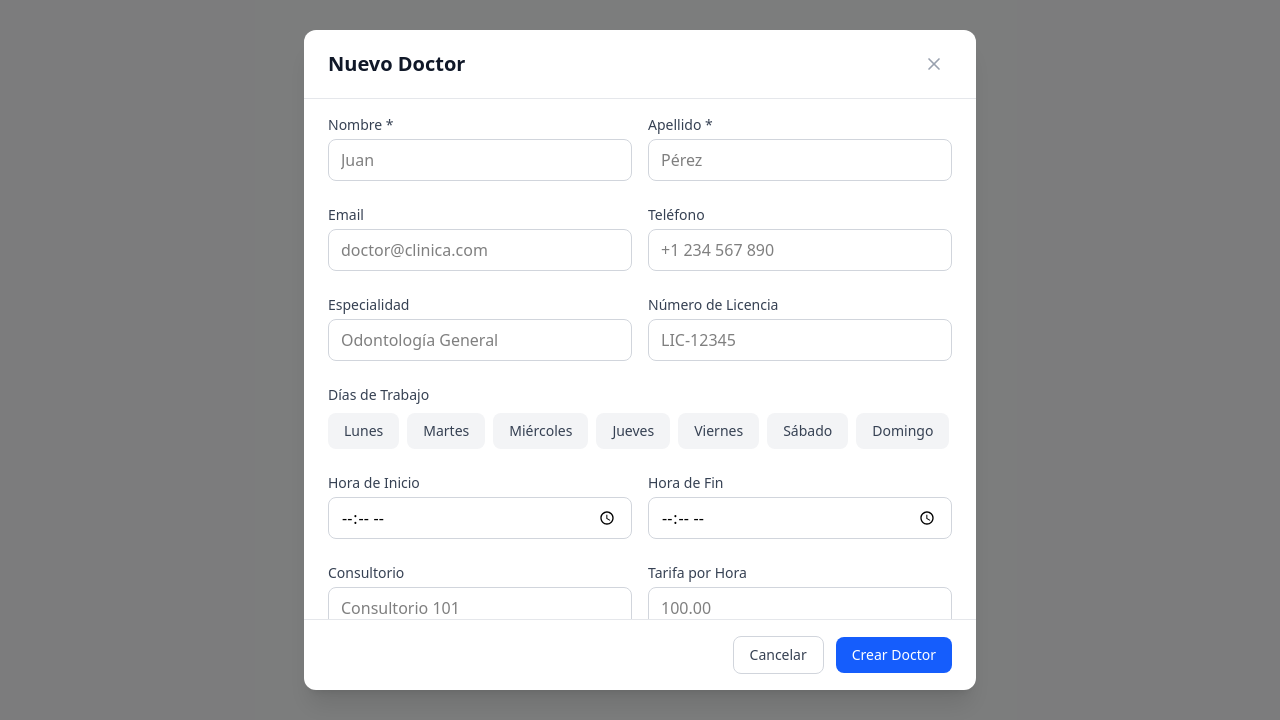
Test case: DoctorFormModal › form validation › should show error for required firstName
Type "Doe" into the field with placeholder "Pérez".
click(800, 160); type("Doe")  # box [648,139,952,181]
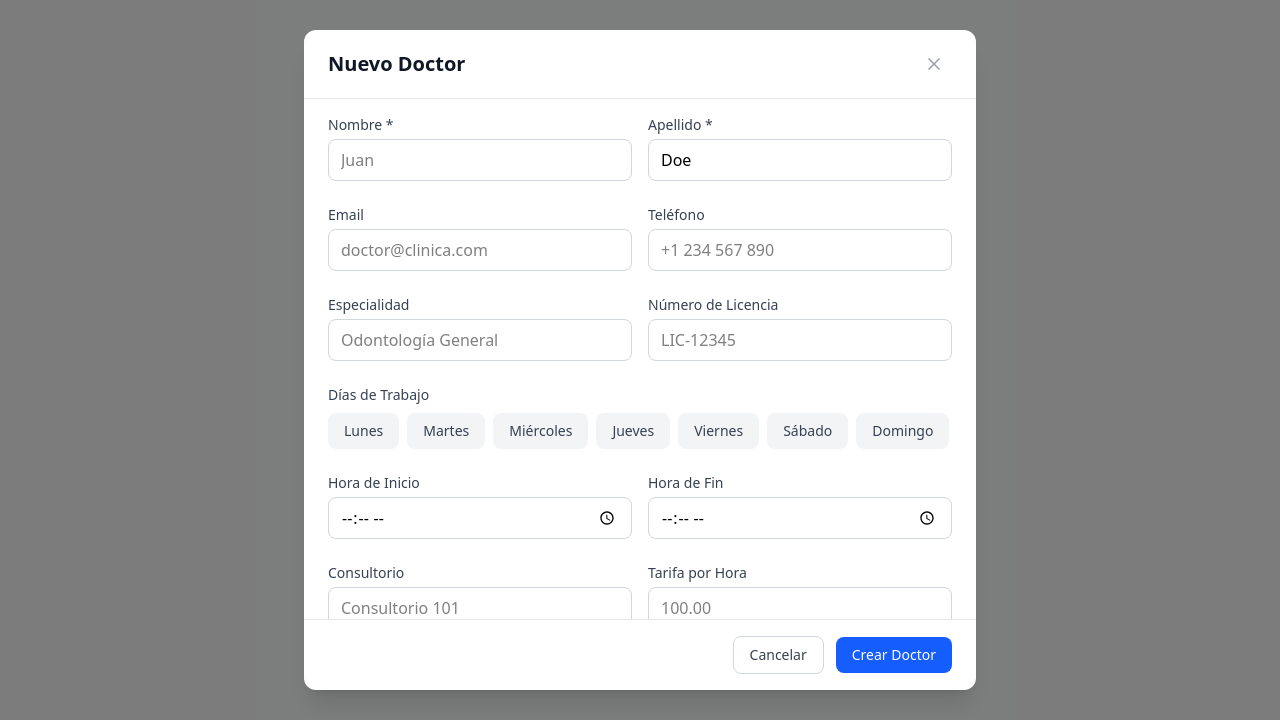
Click the button "Crear Doctor".
click(894, 655)  # box [836,637,952,673]
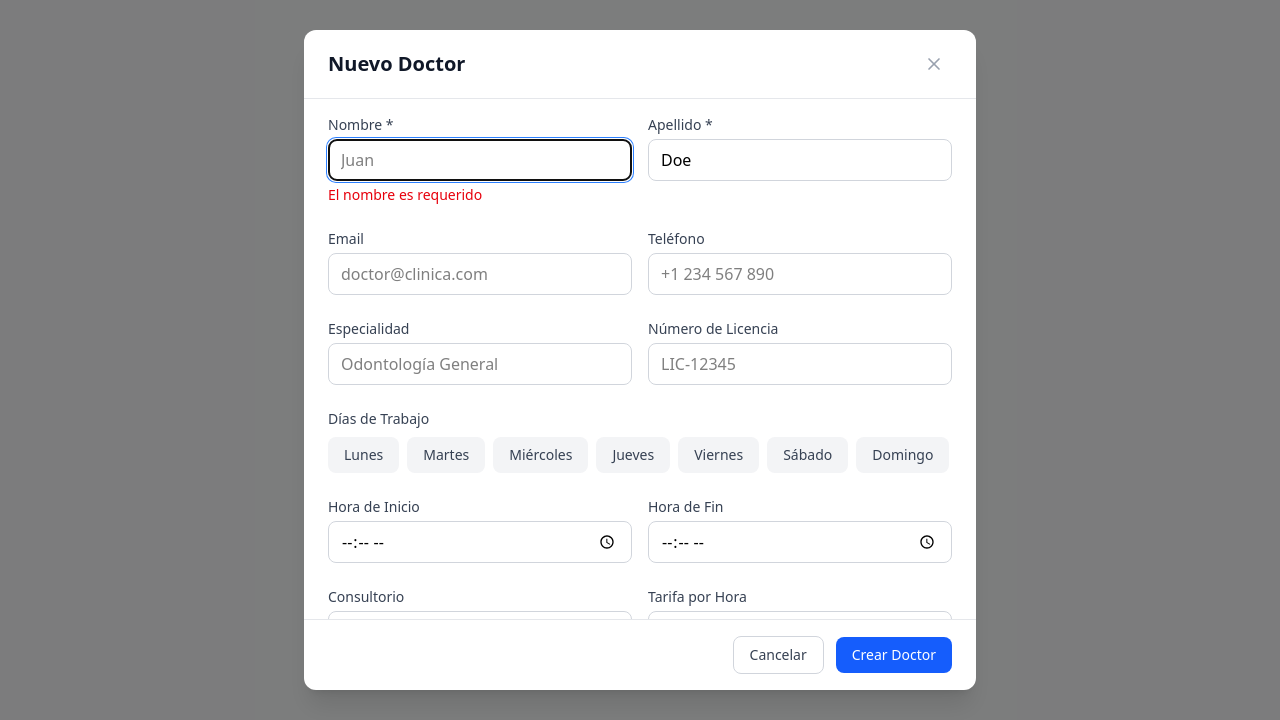
Now the text "El nombre es requerido" is shown, box [328,185,482,204]
